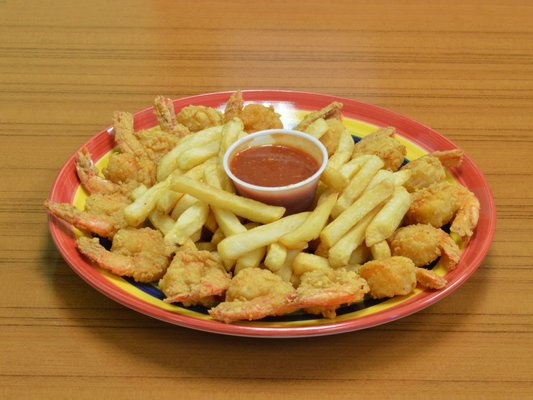sushi: (223, 128, 328, 213)
